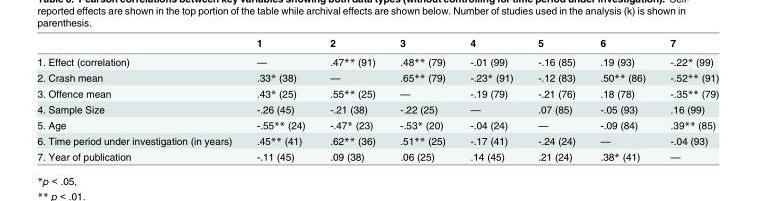table: (36, 36, 718, 162)
table column: (36, 36, 243, 162), (243, 36, 316, 162), (316, 36, 387, 162), (387, 36, 457, 162), (587, 36, 657, 162), (457, 36, 524, 162), (524, 36, 587, 162), (657, 36, 718, 162)
table column header: (36, 36, 718, 51)
table row: (36, 51, 718, 69), (36, 69, 718, 85), (36, 85, 718, 101), (36, 116, 718, 132), (36, 132, 718, 148), (36, 36, 718, 51), (36, 101, 718, 116), (36, 148, 718, 162)
